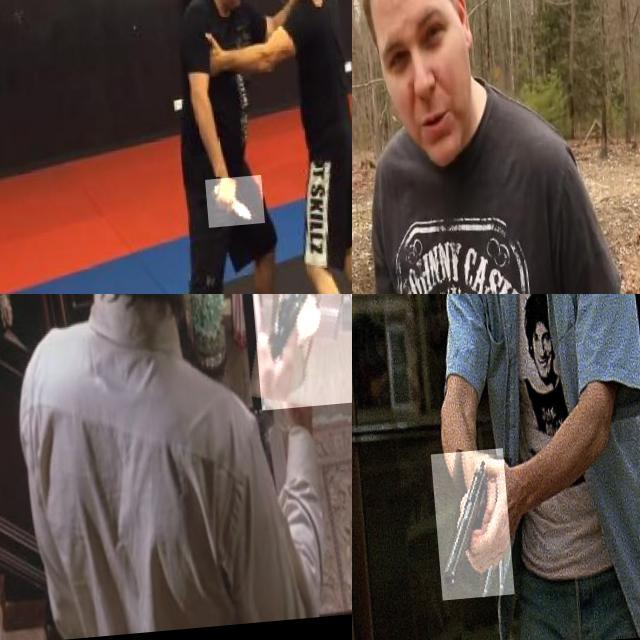-: (198, 182, 256, 234)
gun-knife-thesis - v11 Yolov5 augmented: (240, 294, 352, 416), (423, 454, 505, 606)
